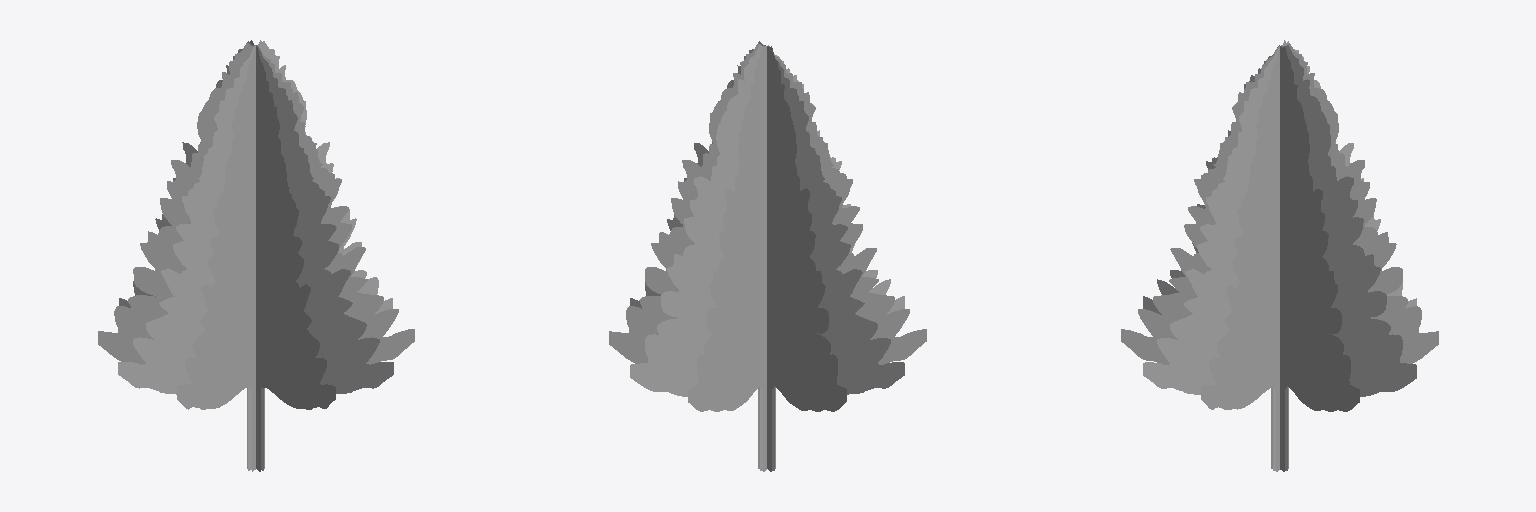
The model's file is small-tree.obj.
3 views of the same model, side by side, from view 1: azimuth 30°, elevation 25°; view 2: azimuth 150°, elevation 25°; view 3: azimuth 270°, elevation 25° (orthographic).
Visible parts, largest first — view 1: picea_abies_001; view 2: picea_abies_001; view 3: picea_abies_001.
Boxes of the visible parts, box(x1,y1,x2,y2) form: picea_abies_001: box(98, 40, 414, 471); picea_abies_001: box(609, 41, 926, 471); picea_abies_001: box(1121, 40, 1438, 471).
Bounding box in the file's own units: 6.23 × 9.25 × 6.23.